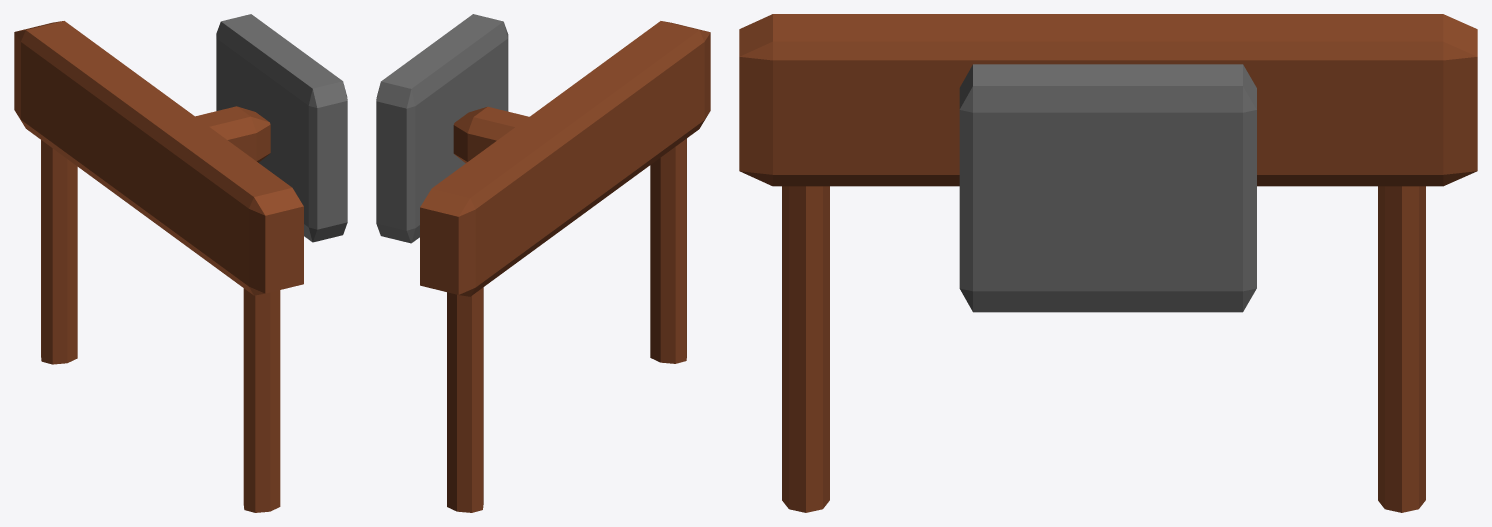
Rendered from LULO.fbx.
3 renders of one model, left to right at view 1: azimuth 30°, elevation 25°; view 2: azimuth 150°, elevation 25°; view 3: azimuth 270°, elevation 25°, orthographic. The views are drawn at different scales.
Visible parts, largest first — view 1: Cube.001; view 2: Cube.001; view 3: Cube.001.
Part boxes in pixels (x1=…): Cube.001: x1=14, y1=14, x2=347, y2=512; Cube.001: x1=376, y1=14, x2=710, y2=512; Cube.001: x1=739, y1=14, x2=1477, y2=512.
Size of the model in its own units: 353 by 708 by 924.
2 materials, 1 textured.
